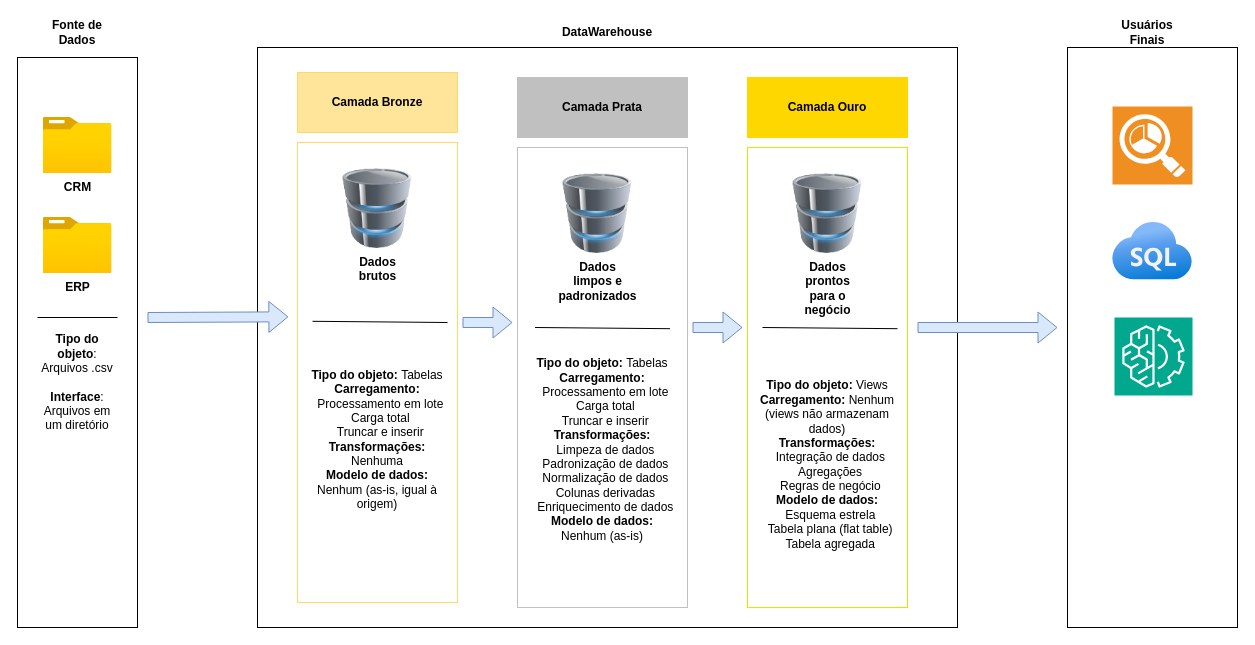
This 1255x645 diagram has some shape labels left out. Each missing label, with the centre of its shape:
"Aprendizado de máquina inteligência artificial" goes at (x=1153, y=356).
"Consultas em SQL" goes at (x=1152, y=251).
"Inteligência de negócio" goes at (x=1152, y=145).
